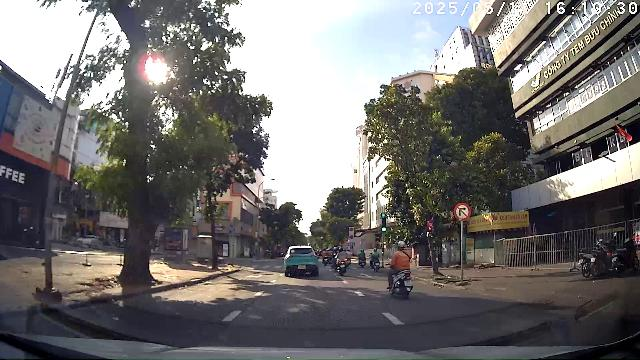123b-cam-re-phai: (454, 202, 471, 221)
